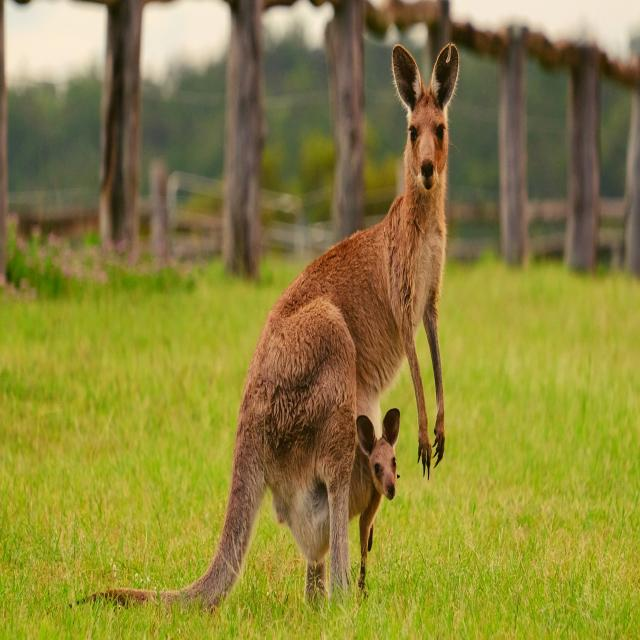Kangaroo: (71, 14, 462, 613)
